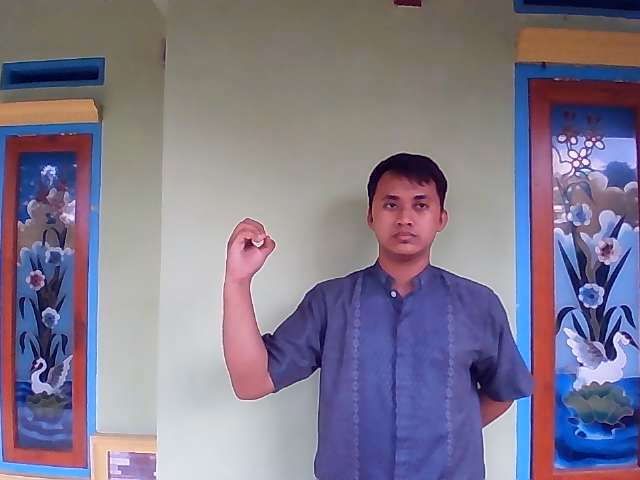O: (223, 216, 276, 282)
